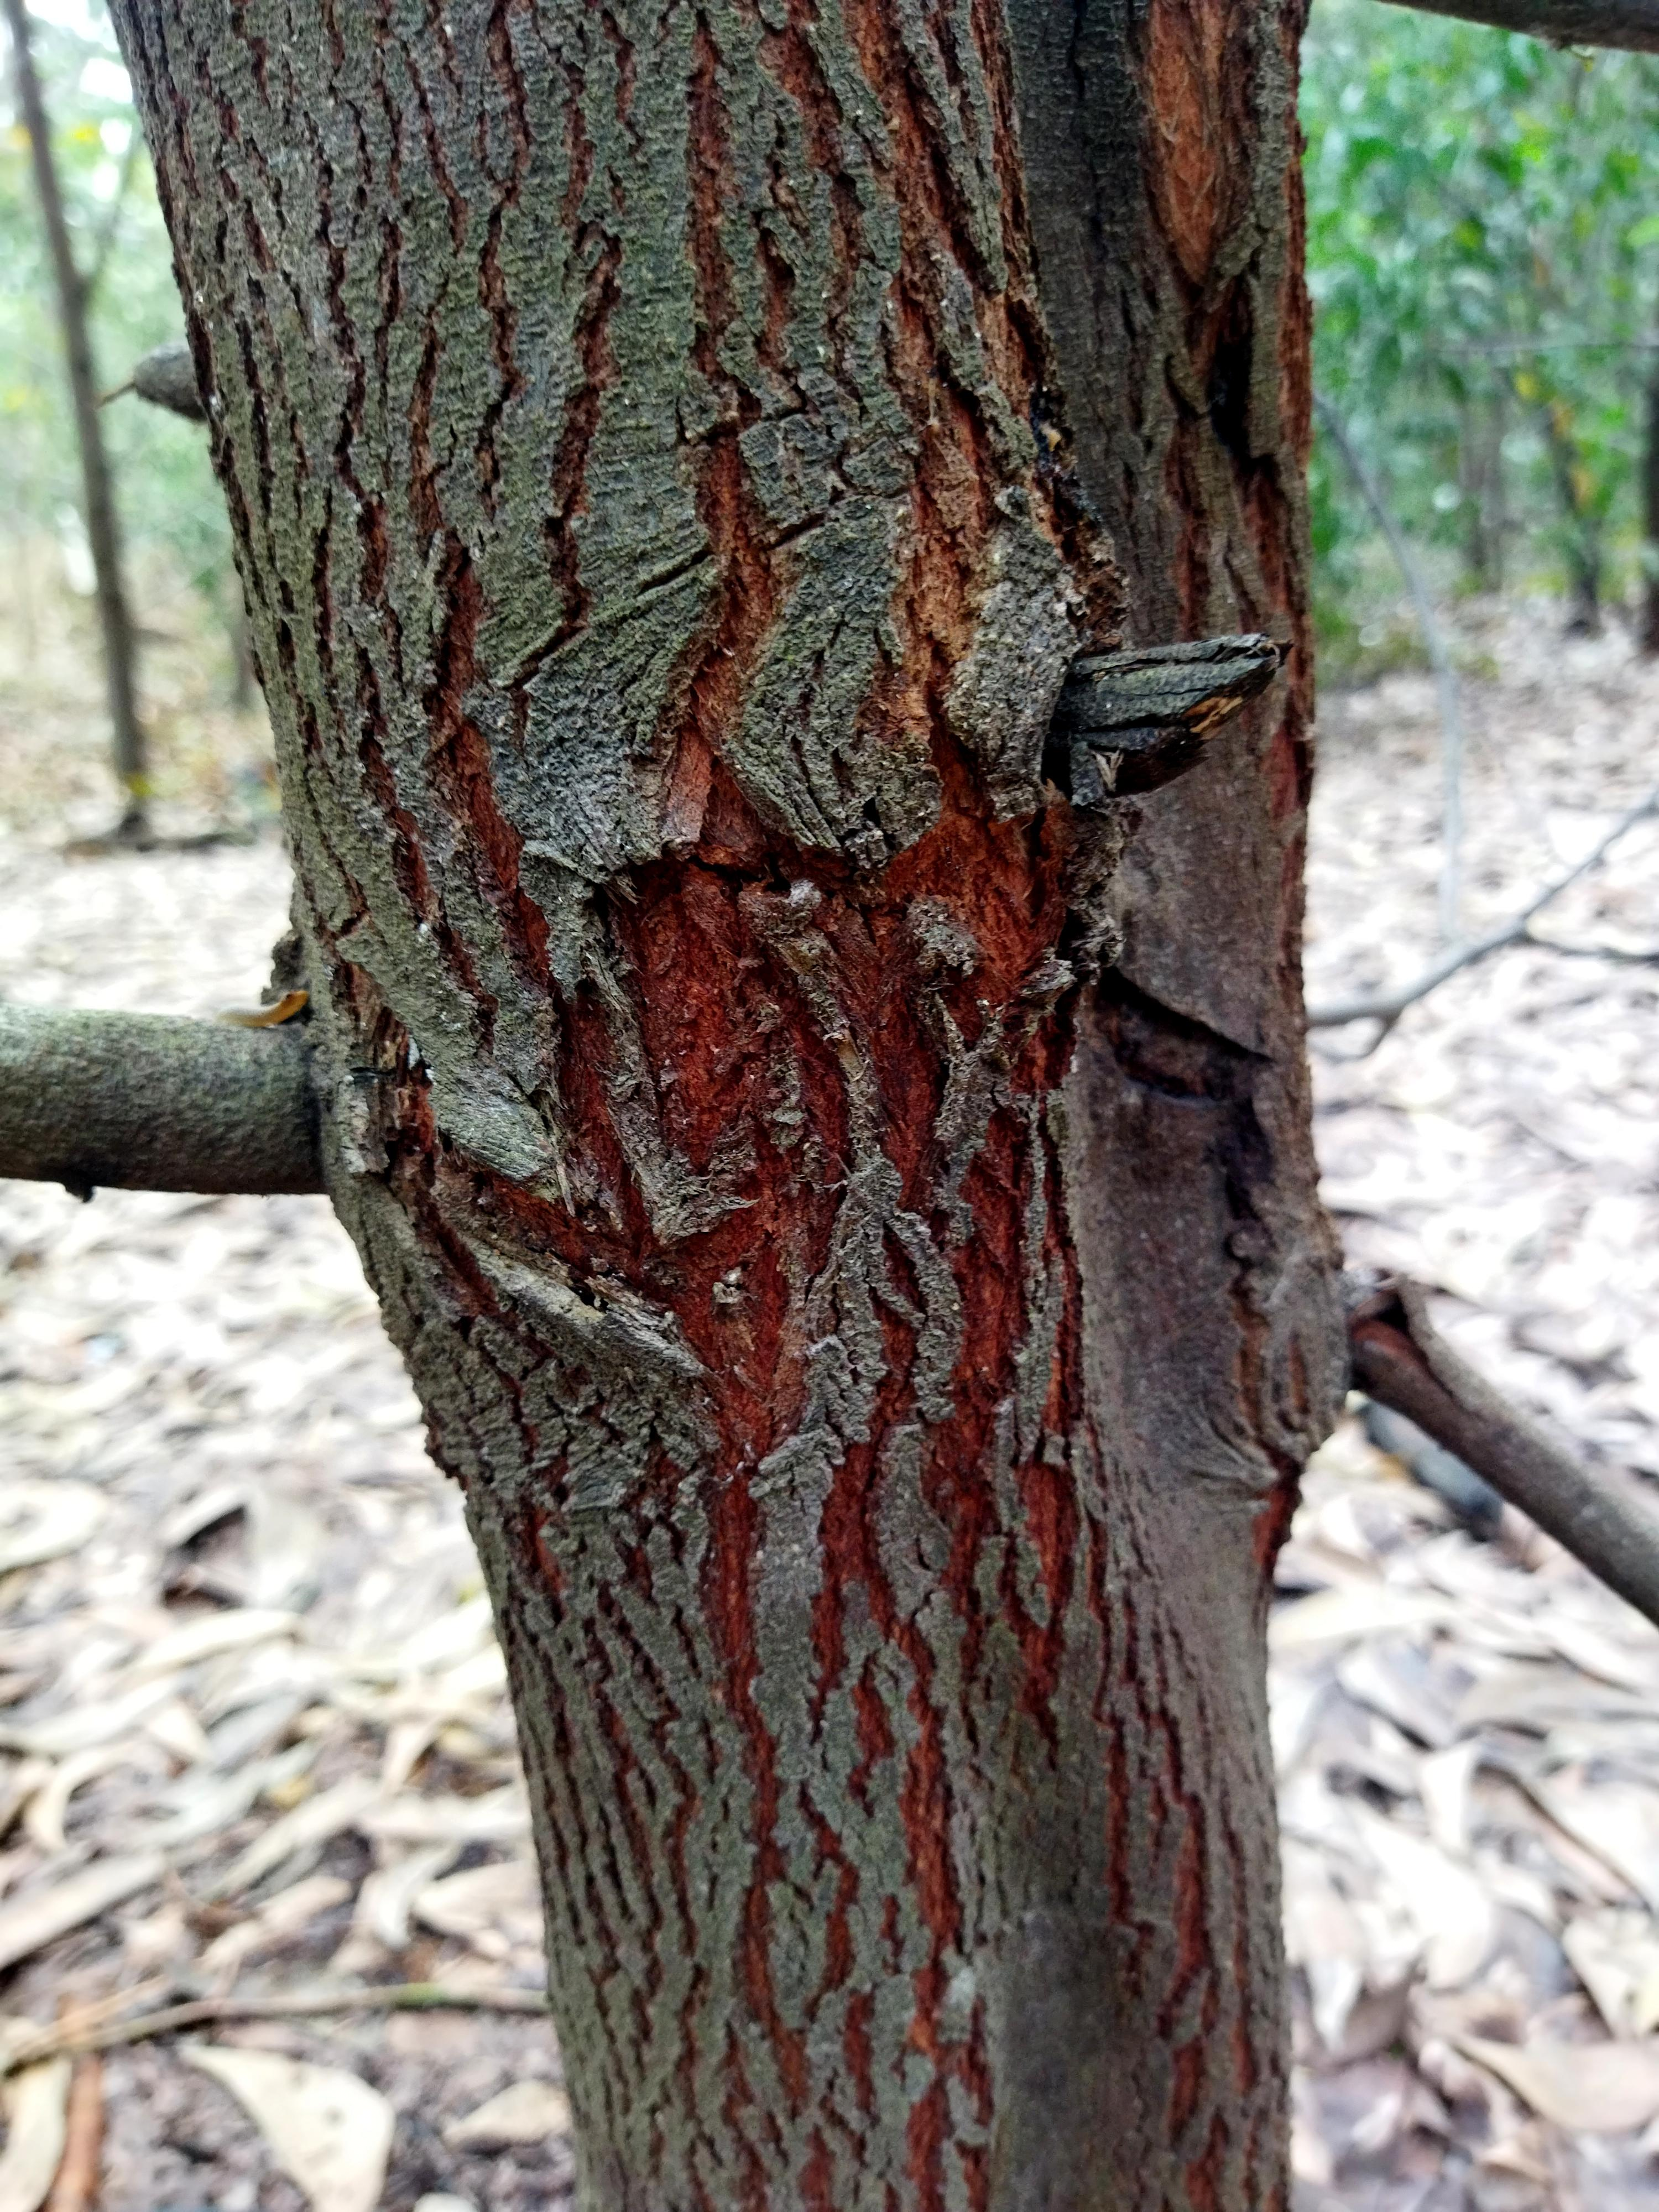Stem Deformation: (272, 472, 1195, 2160)
